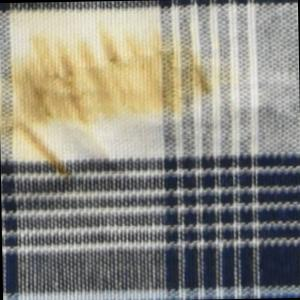Oil Stain: (1, 16, 237, 183)
